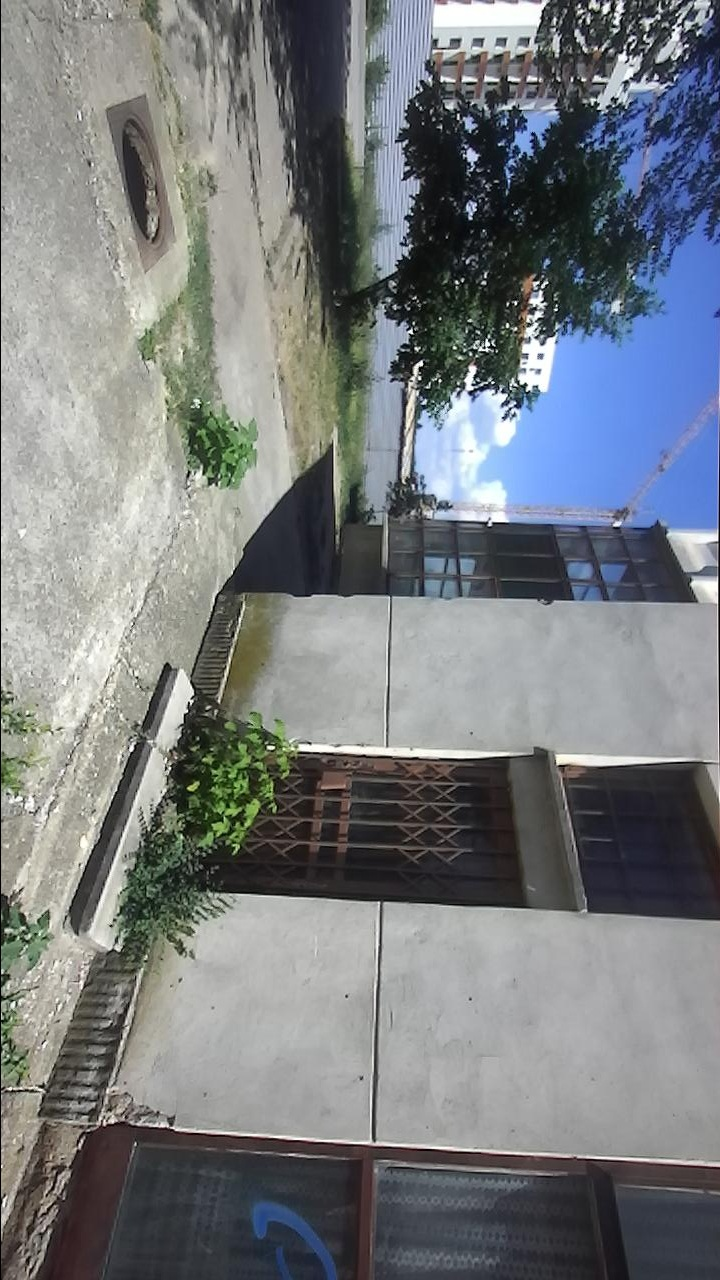drain: (112, 116, 167, 255)
